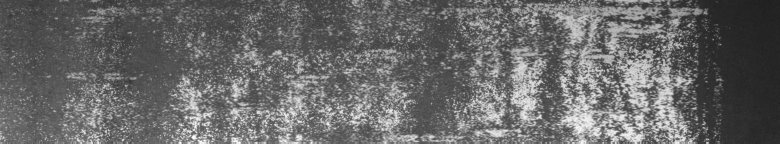kb: (11, 4, 727, 136)
